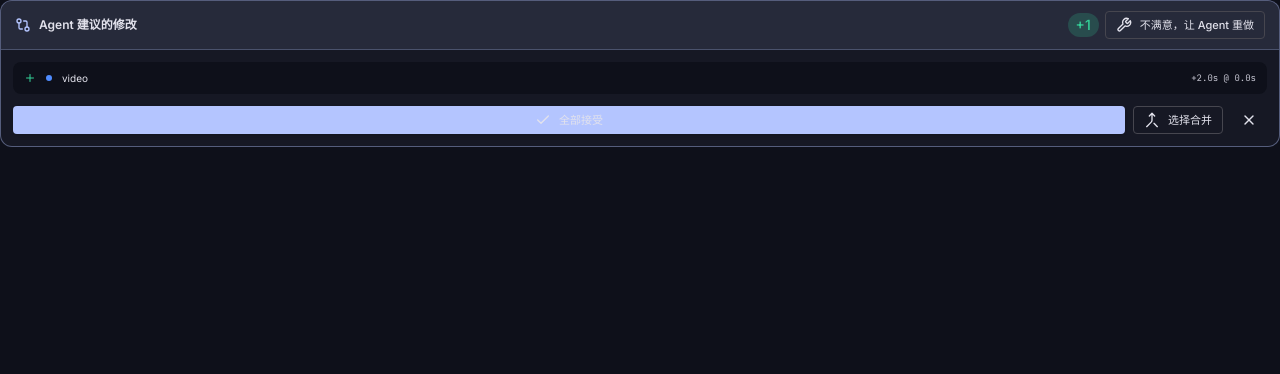
G10: diff review rework entry › 无会话 → 提示需要需求会话
The width and height of the screenshot is (1280, 374).
Click the button "不满意，让 Agent 重做". click: (1185, 25)
box: 1105,11 -> 1265,39
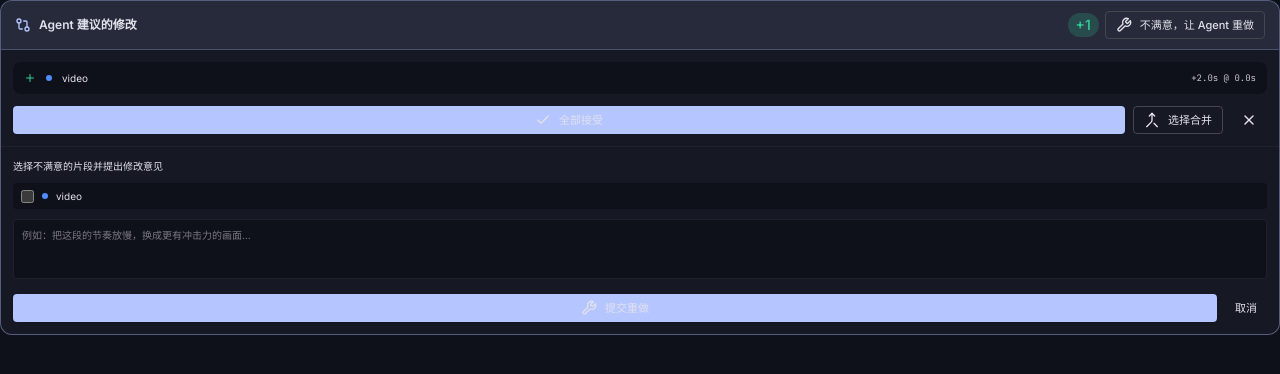
Click the button "提交重做". click: (615, 308)
box: 13,294 -> 1217,322
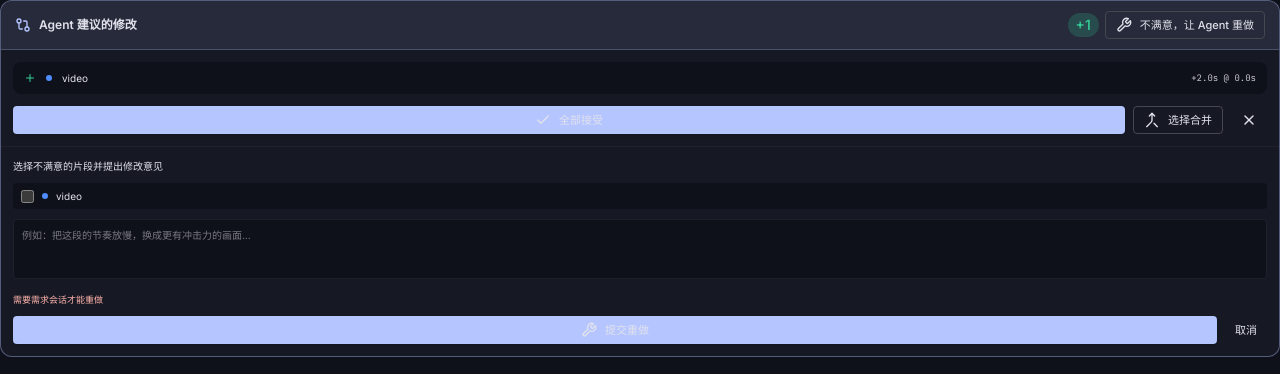
Result: the text "需要需求会话才能重做" is shown at 13,294 -> 103,305
